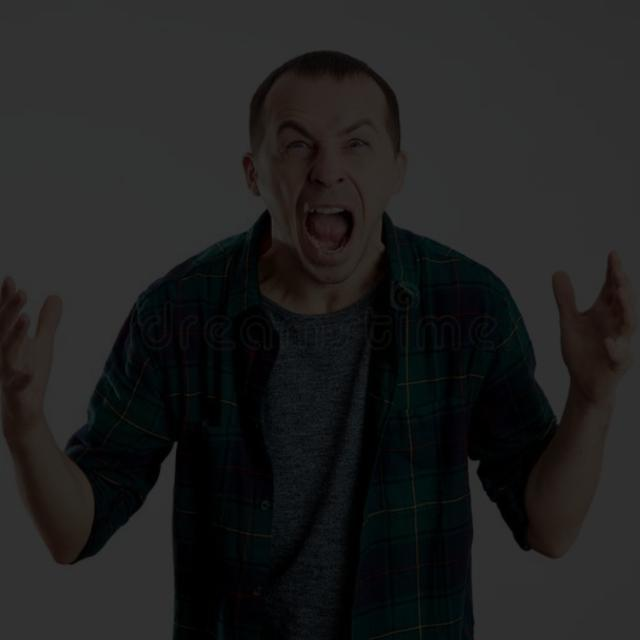Angry: (183, 53, 454, 297)
